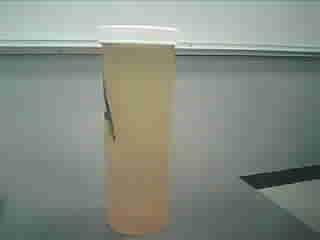Bottle A: (94, 21, 181, 238)
